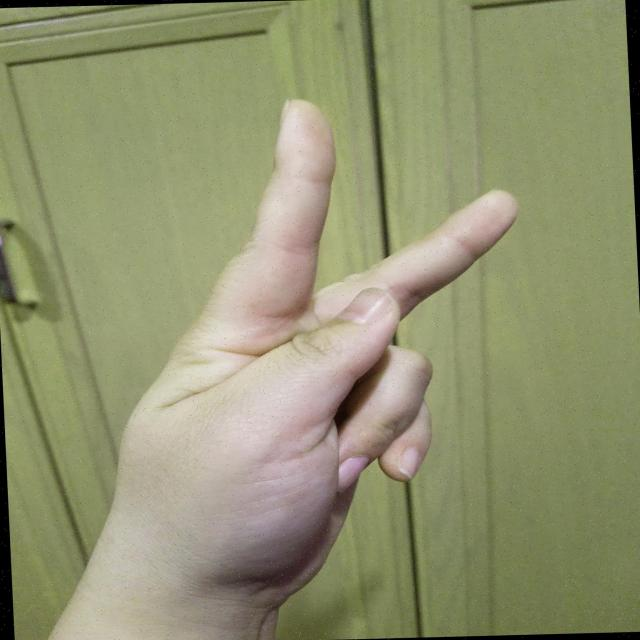K: (81, 83, 546, 608)
